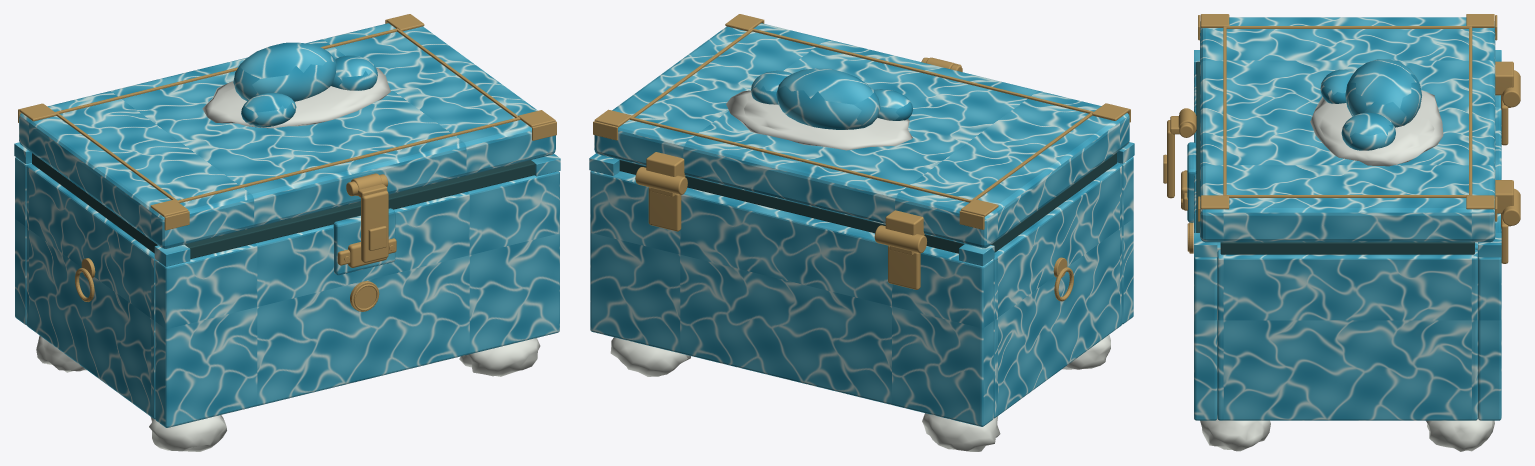
Rendered from dominican-republic.glb.
3 renders of one model, left to right at view 1: azimuth 30°, elevation 25°; view 2: azimuth 150°, elevation 25°; view 3: azimuth 270°, elevation 25°, orthographic.
Parts seen in each view (by area): view 1: Larimar / front, Lid / polished slab, Larimar / side, Mineral seam / long, Ornament / larimar cabochon large, Ornament / white mineral setting, Granite foot, Larimar / rear, Granite foot.002, Latch / lifting hasp, Ornament / larimar cabochon front, Larimar / clasp seat (+9 smaller); view 2: Larimar / rear, Lid / polished slab, Larimar / side, Ornament / larimar cabochon large, Ornament / white mineral setting, Mineral seam / long.001, Granite foot.001, Larimar / front, Granite foot.003, Mineral seam / side, Lid / gold border long.001, Lid / gold border long (+13 smaller); view 3: Lid / polished slab, Larimar / side.001, Larimar / rear, Ornament / white mineral setting, Larimar / front, Ornament / larimar cabochon large, Mineral seam / side.001, Granite foot.002, Granite foot.003, Ornament / larimar cabochon small, Ornament / larimar cabochon front, Lid / gold border side (+16 smaller).
Boxes of the visible parts, x1,y1,x2,y2 form: Larimar / front: (155,171,559,427); Lid / polished slab: (19,23,555,248); Larimar / side: (26,164,155,419); Mineral seam / long: (184,160,535,258); Ornament / larimar cabochon large: (233,42,336,101); Ornament / white mineral setting: (202,68,390,128); Granite foot: (149,415,226,451); Larimar / rear: (15,157,31,325); Granite foot.002: (459,338,540,376); Latch / lifting hasp: (361,190,388,262); Ornament / larimar cabochon front: (241,93,296,127); Larimar / clasp seat: (333,208,395,275); Larimar / rear: (590,170,993,426); Lid / polished slab: (594,23,1129,248); Larimar / side: (993,163,1121,418); Ornament / larimar cabochon large: (776,68,880,129); Ornament / white mineral setting: (726,90,912,150); Mineral seam / long.001: (619,160,964,253); Granite foot.001: (922,413,1000,451); Larimar / front: (1117,157,1133,324); Granite foot.003: (610,337,690,376); Mineral seam / side: (991,153,1116,252); Lid / gold border long.001: (629,117,972,202); Lid / gold border long: (751,28,1093,113); Lid / polished slab: (1200,17,1495,242); Larimar / side.001: (1217,249,1477,420); Larimar / rear: (1478,95,1501,420); Ornament / white mineral setting: (1310,90,1443,166); Larimar / front: (1194,74,1217,420); Ornament / larimar cabochon large: (1345,59,1421,127); Mineral seam / side.001: (1220,242,1474,254); Granite foot.002: (1200,419,1270,451); Granite foot.003: (1426,419,1494,451); Ornament / larimar cabochon small: (1341,112,1395,150); Ornament / larimar cabochon front: (1320,69,1354,103); Lid / gold border side: (1224,26,1469,28).
Size of the model in its own units: 3.79 by 2.76 by 2.88.
4 materials, 1 textured.
